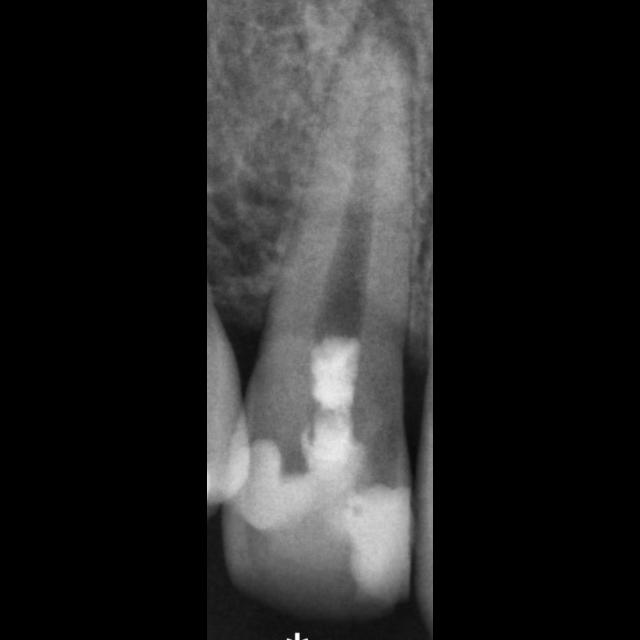tooth: (219, 34, 415, 625)
